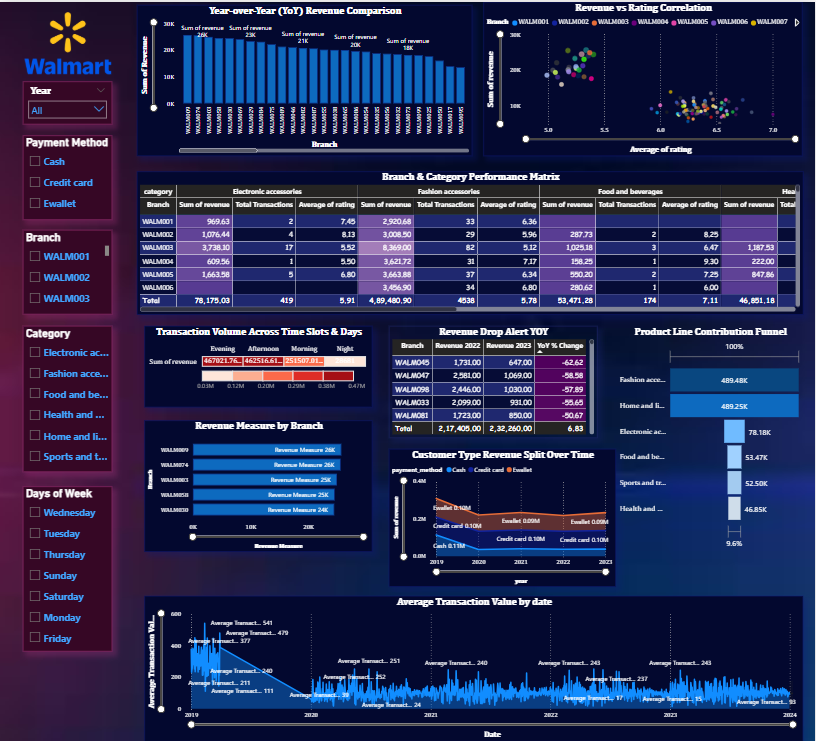

Layout of this report page (visuals, bound fields, positions):
{"tool":"powerbi","page":{"name":"Page 1","canvas":[1600,1480],"ordinal":0},"visuals":[{"type":"clusteredColumnChart","title":"Year-over-Year (YoY) Revenue Comparison","fields":{"Category":["Walmart_clean_data.Branch"],"Y":["Sum(Walmart_clean_data.revenue)"]},"box":[270.2,6.4,657.4,295.7],"z":0},{"type":"slicer","fields":{"Values":["Walmart_clean_data.year"]},"box":[46.5,155.8,174.4,83.7],"z":1000},{"type":"image","box":[0,14,269.8,132.6],"z":2000},{"type":"scatterChart","title":"Revenue vs Rating Correlation","fields":{"X":["Avg(Walmart_clean_data.rating)"],"Y":["Sum(Walmart_clean_data.revenue)"],"Size":["Walmart_clean_data.Total Transactions"],"Series":["Walmart_clean_data.Branch"]},"box":[951.1,0,625.5,302.1],"z":3000},{"type":"slicer","title":"Payment Method","fields":{"Values":["Walmart_clean_data.payment_method"]},"box":[46.5,260.5,174.4,165.1],"z":4000},{"type":"slicer","title":"Branch","fields":{"Values":["Walmart_clean_data.Branch"]},"box":[46.5,446.5,174.4,165.1],"z":5000},{"type":"slicer","title":"Category","fields":{"Values":["Walmart_clean_data.category"]},"box":[46.5,634.9,174.4,286],"z":6000},{"type":"TableHeatMap1443716069308","title":"Transaction Volume Across Time Slots & Days","fields":{"Category":["Walmart_clean_data.Time of Day"],"Y":["Sum(Walmart_clean_data.revenue)"]},"box":[285.1,634,446.8,159.6],"z":7000},{"type":"pivotTable","title":"Branch & Category Performance Matrix","fields":{"Rows":["Walmart_clean_data.Branch"],"Columns":["Walmart_clean_data.category"],"Values":["Sum(Walmart_clean_data.revenue)","Walmart_clean_data.Total Transactions","Avg(Walmart_clean_data.rating)"]},"box":[270.2,331.9,1306.4,280.9],"z":8000},{"type":"tableEx","title":"Revenue Drop Alert YOY","fields":{"Values":["Walmart_clean_data.Branch","Walmart_clean_data.Revenue 2022","Walmart_clean_data.Revenue 2023","Walmart_clean_data.YoY % Change"]},"box":[766,634,408.5,219.1],"z":9000},{"type":"funnel","title":"Product Line Contribution Funnel","fields":{"Category":["Walmart_clean_data.category"],"Y":["Sum(Walmart_clean_data.revenue)"]},"box":[1210.6,634,366,442.6],"z":9001},{"type":"clusteredBarChart","fields":{"Y":["Walmart_clean_data.TopN Revenue Branch"],"Category":["Walmart_clean_data.Branch"]},"box":[285.1,819.1,446.8,257.4],"z":9002},{"type":"stackedAreaChart","title":"Customer Type Revenue Split Over Time","fields":{"Category":["Walmart_clean_data.year"],"Series":["Walmart_clean_data.payment_method"],"Y":["Sum(Walmart_clean_data.revenue)"]},"box":[766,876.6,444.7,270.2],"z":9003},{"type":"lineChart","fields":{"Category":["Walmart_clean_data.date"],"Y":["Walmart_clean_data.Average Transaction Value"]},"box":[285.1,1163.8,1291.5,285.1],"z":9004},{"type":"slicer","title":"Days of Week","fields":{"Values":["Walmart_clean_data.Day of Week"]},"box":[46.8,948.9,174.5,323.4],"z":9005}]}

Visuals, with their boxes in screenshot pixels (x1, y1, x2, y2), scaled from the page's 1600x1480 canvas onto the 816x741 screenshot:
"Year-over-Year (YoY) Revenue Comparison" clusteredColumnChart: 138 3 473 151
slicer - Walmart_clean_data.year: 24 78 113 120
image: 0 7 138 73
"Revenue vs Rating Correlation" scatterChart: 485 0 804 151
"Payment Method" slicer: 24 130 113 213
"Branch" slicer: 24 224 113 306
"Category" slicer: 24 318 113 461
"Transaction Volume Across Time Slots & Days" TableHeatMap1443716069308: 145 317 373 397
"Branch & Category Performance Matrix" pivotTable: 138 166 804 307
"Revenue Drop Alert YOY" tableEx: 391 317 599 427
"Product Line Contribution Funnel" funnel: 617 317 804 539
clusteredBarChart - Walmart_clean_data.TopN Revenue Branch x Walmart_clean_data.Branch: 145 410 373 539
"Customer Type Revenue Split Over Time" stackedAreaChart: 391 439 617 574
lineChart - Walmart_clean_data.date x Walmart_clean_data.Average Transaction Value: 145 583 804 725
"Days of Week" slicer: 24 475 113 637
